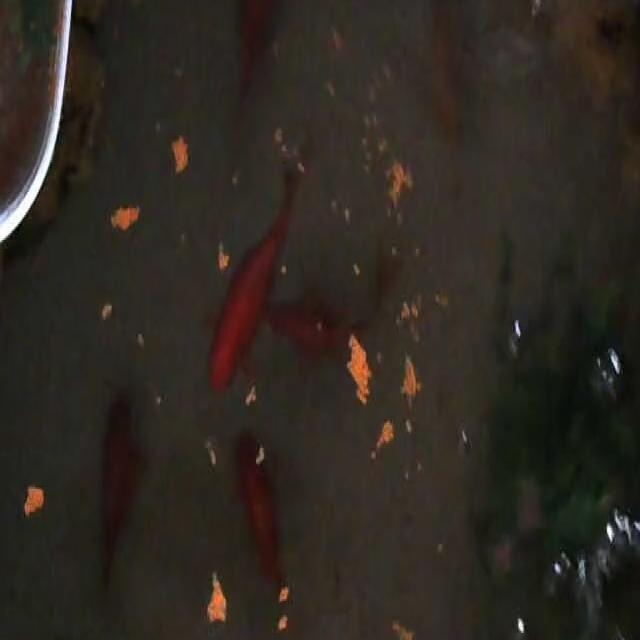fish: (203, 155, 299, 397), (268, 239, 400, 369), (99, 389, 145, 591), (234, 426, 285, 596), (232, 0, 280, 119), (428, 0, 465, 144)
